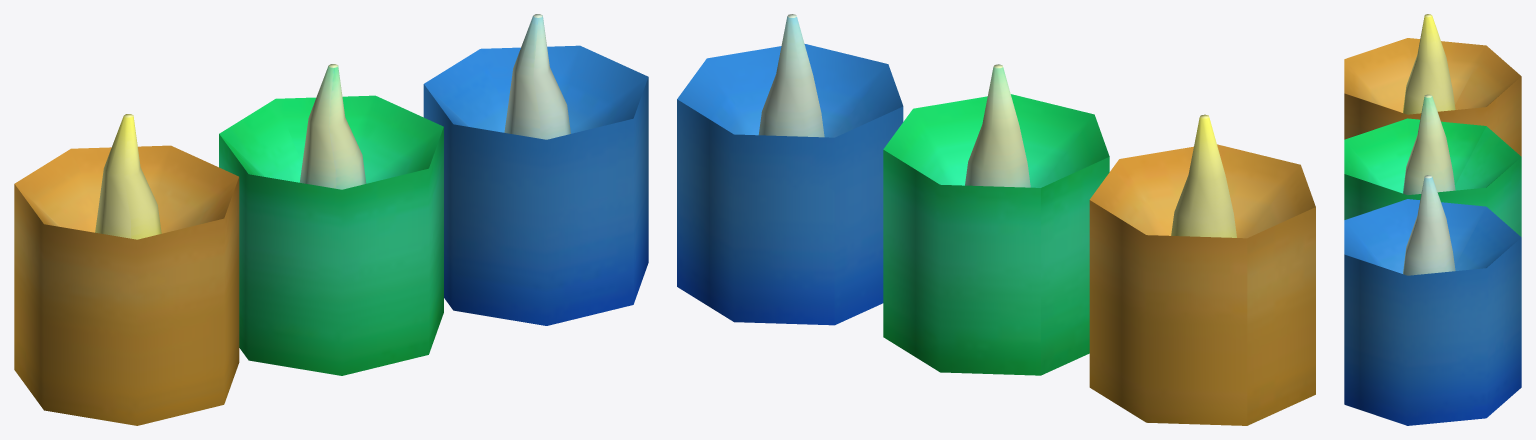
Rendered from furni_0200708.FBX.
The picture shows the model from 3 angles, left to right: view 1: azimuth 30°, elevation 25°; view 2: azimuth 150°, elevation 25°; view 3: azimuth 270°, elevation 25°; orthographic projection. The views are drawn at different scales.
Visible parts, largest first — view 1: furni_0200708; view 2: furni_0200708; view 3: furni_0200708.
Part boxes in pixels (<box>): furni_0200708: <box>14,14,648,425</box>; furni_0200708: <box>677,14,1315,425</box>; furni_0200708: <box>1344,14,1521,425</box>.
Size of the model in its own units: 33.14 by 13.7 by 10.43.
